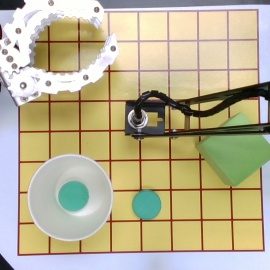cup_green: (28, 154, 115, 240)
green: (133, 190, 164, 218)
